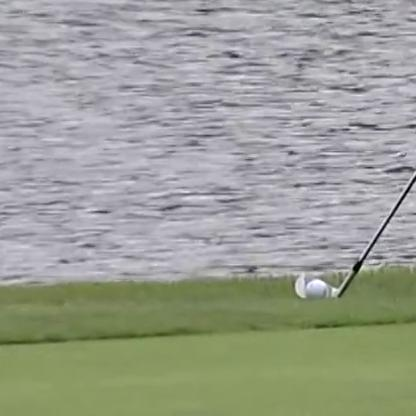golfball: (300, 279, 330, 301)
